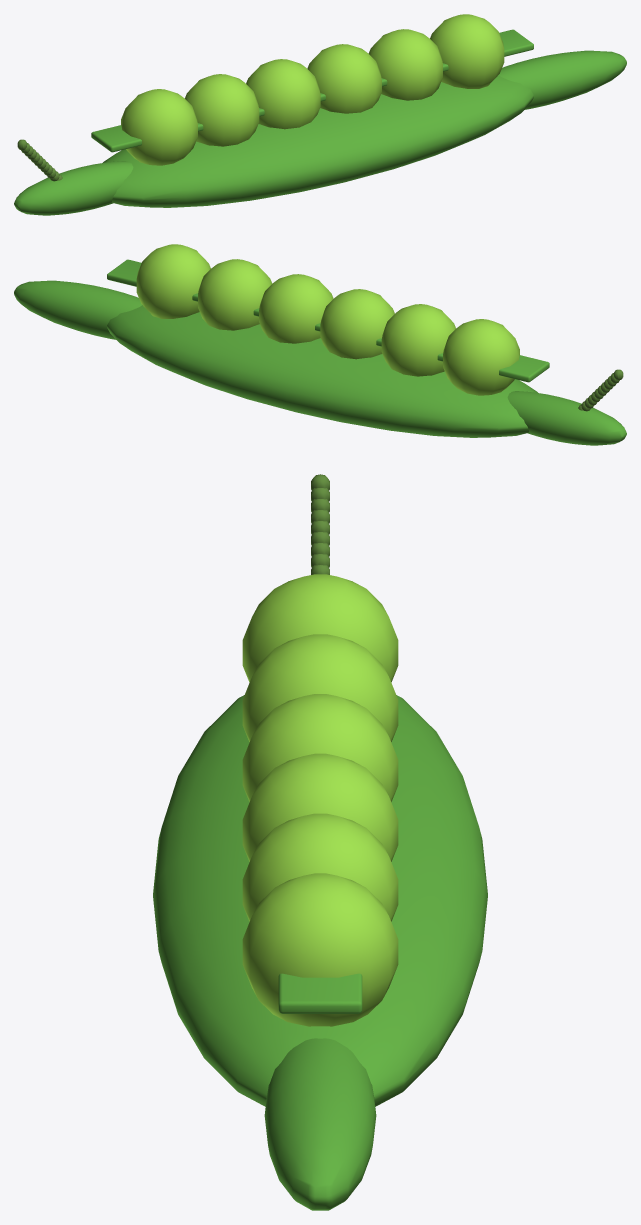
Rendered from vagem_verde.glb.
3 views of the same model, one above another, from view 1: azimuth 30°, elevation 25°; view 2: azimuth 150°, elevation 25°; view 3: azimuth 270°, elevation 25° (orthographic). The views are drawn at different scales.
Visible parts, largest first — view 1: vagem_verde; view 2: vagem_verde; view 3: vagem_verde.
Boxes of the visible parts, x1,y1,x2,y2 form: vagem_verde: [14, 14, 626, 215]; vagem_verde: [14, 244, 626, 445]; vagem_verde: [153, 474, 487, 1210].
Bounding box in the file's own units: 1.51 × 0.275 × 0.36.
